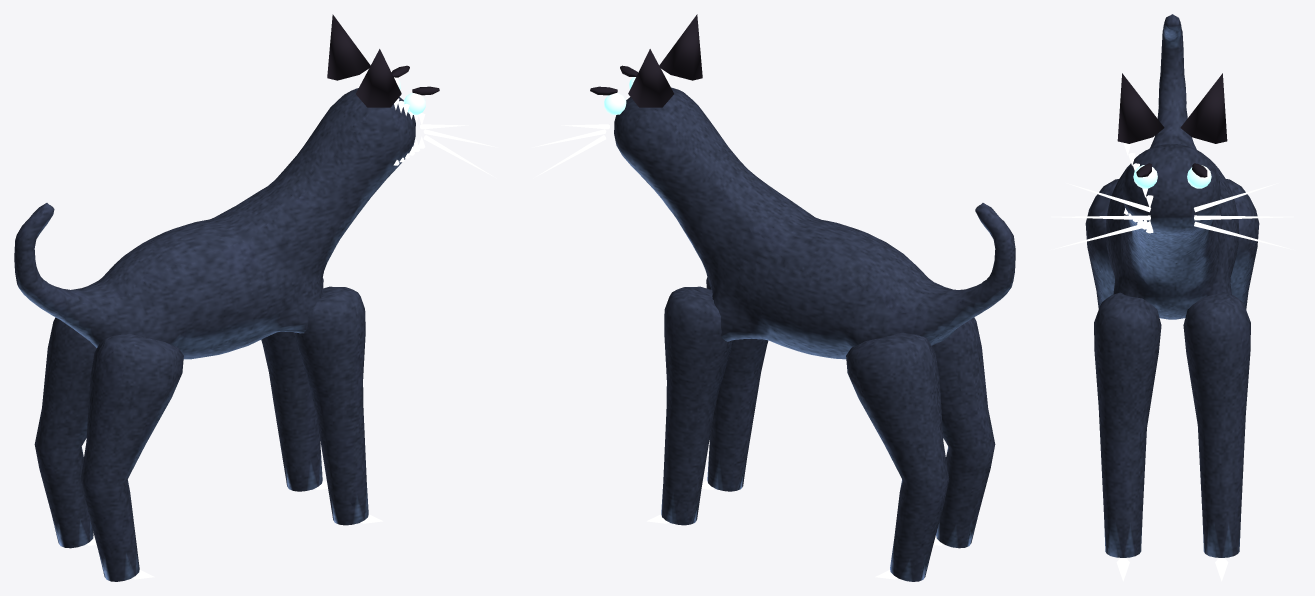
Rendered from yule-cat.glb.
3 views of the same model, side by side, from view 1: azimuth 30°, elevation 25°; view 2: azimuth 150°, elevation 25°; view 3: azimuth 270°, elevation 25° (orthographic). The views are drawn at different scales.
Parts seen in each view (by area): view 1: yule-cat.001; view 2: yule-cat.001; view 3: yule-cat.001.
Part boxes in pixels (bbox=[...]): yule-cat.001: bbox=[14, 14, 497, 581]; yule-cat.001: bbox=[532, 14, 1015, 581]; yule-cat.001: bbox=[1051, 14, 1293, 581].
Bounding box in the file's own units: 2.34 × 2.5 × 1.15.
4 materials, 1 textured.
